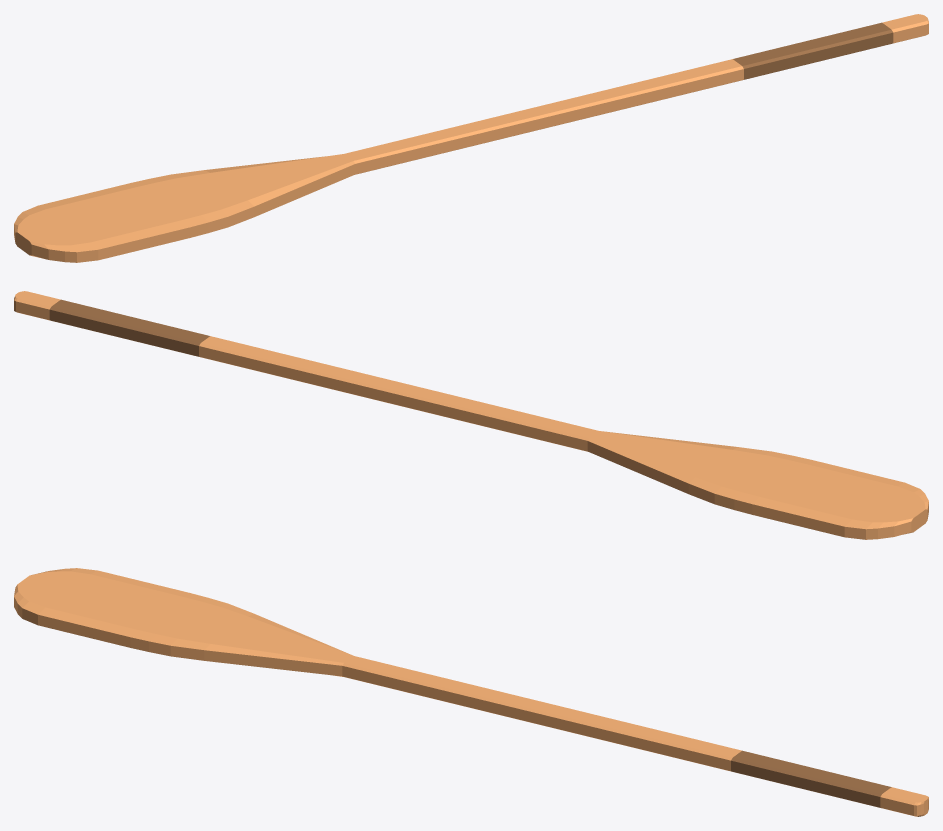
Rendered from paddle.fbx.
The picture shows the model from 3 angles, top to bottom: view 1: azimuth 30°, elevation 25°; view 2: azimuth 150°, elevation 25°; view 3: azimuth 330°, elevation 25°; orthographic projection.
Parts seen in each view (by area): view 1: Paddle; view 2: Paddle; view 3: Paddle.
Boxes of the visible parts, x1,y1,x2,y2 form: Paddle: (14, 14, 928, 262); Paddle: (14, 291, 928, 539); Paddle: (14, 568, 928, 816).
Bounding box in the file's own units: 415 × 6.25 × 48.
